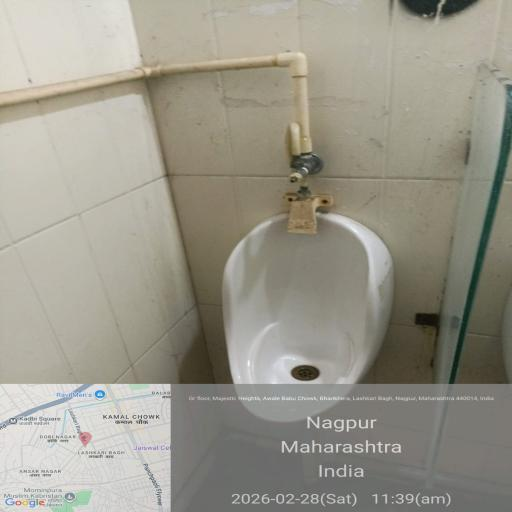clean_floor: (0, 6, 212, 511)
clean_urinal: (178, 181, 450, 449)
partial_dirty_floor: (237, 4, 508, 157)
